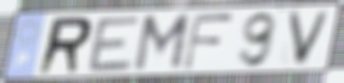9: (234, 11, 280, 70)
E: (85, 14, 143, 75)
F: (180, 12, 237, 72)
M: (130, 12, 193, 75)
R: (34, 15, 96, 77)
V: (286, 9, 334, 68)
